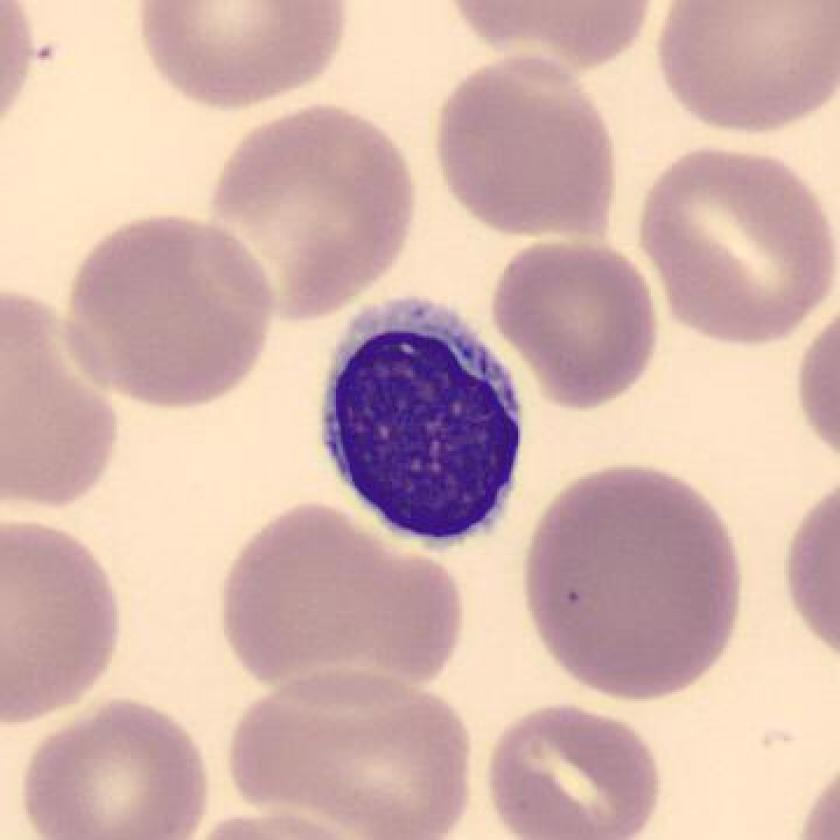lymphocyte: (311, 286, 540, 554)
